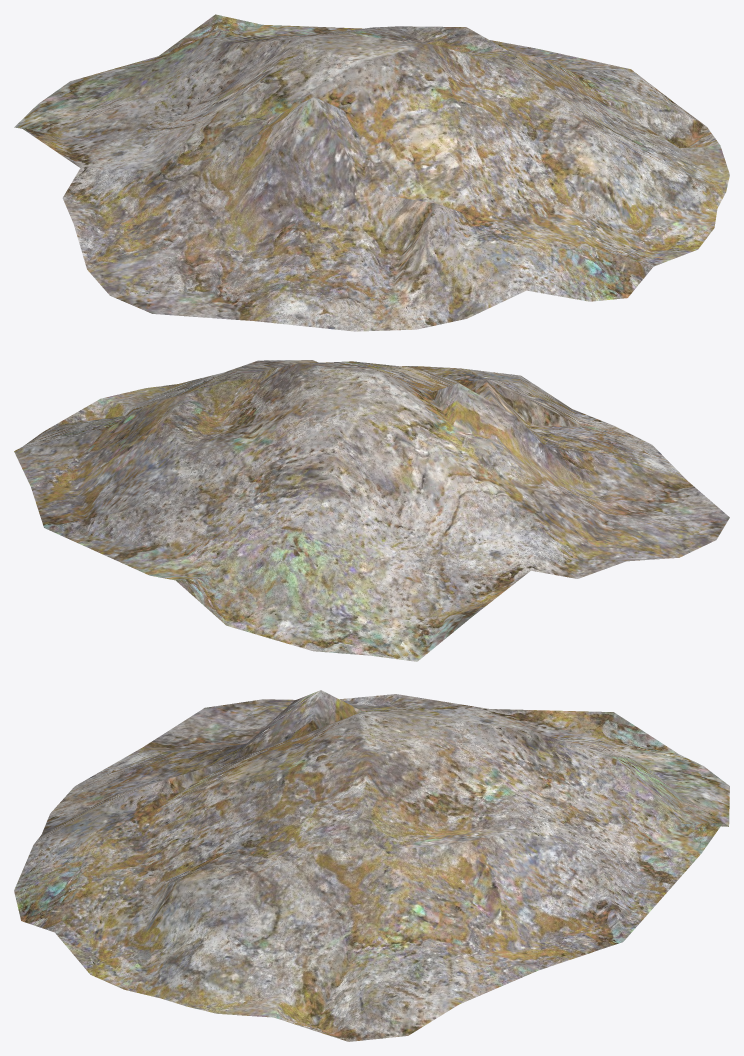
Rendered from mud_pile.glb.
3 renders of one model, top to bottom at view 1: azimuth 30°, elevation 25°; view 2: azimuth 150°, elevation 25°; view 3: azimuth 270°, elevation 25°, orthographic. The views are drawn at different scales.
Parts seen in each view (by area): view 1: tet_de_bouc_paille.002; view 2: tet_de_bouc_paille.002; view 3: tet_de_bouc_paille.002.
Part boxes in pixels (box(x1,y1,x2,y2)): tet_de_bouc_paille.002: box(14, 14, 729, 331); tet_de_bouc_paille.002: box(14, 360, 729, 661); tet_de_bouc_paille.002: box(14, 690, 729, 1041).
Bounding box in the file's own units: 2 × 0.4524 × 1.86.
1 material, 1 textured.
